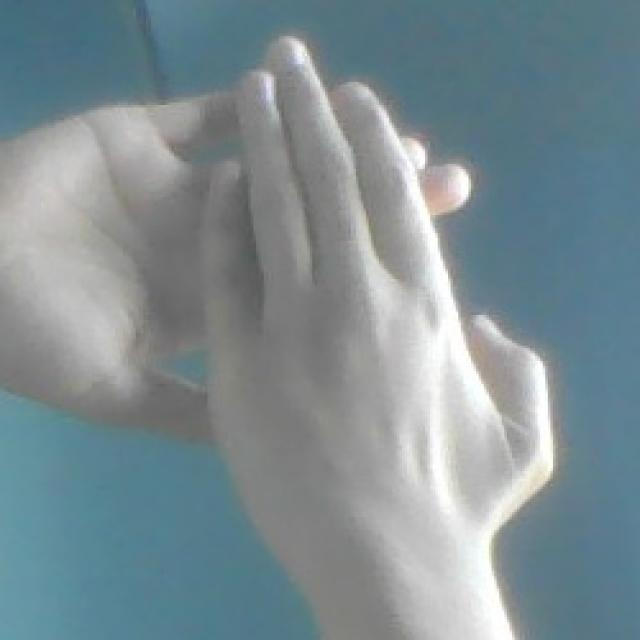Alphabet-H: (1, 38, 560, 636)
